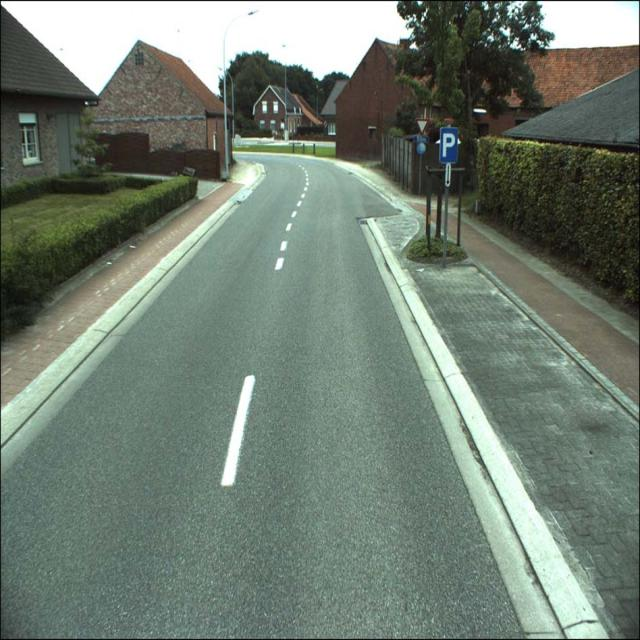park: (438, 126, 458, 164)
